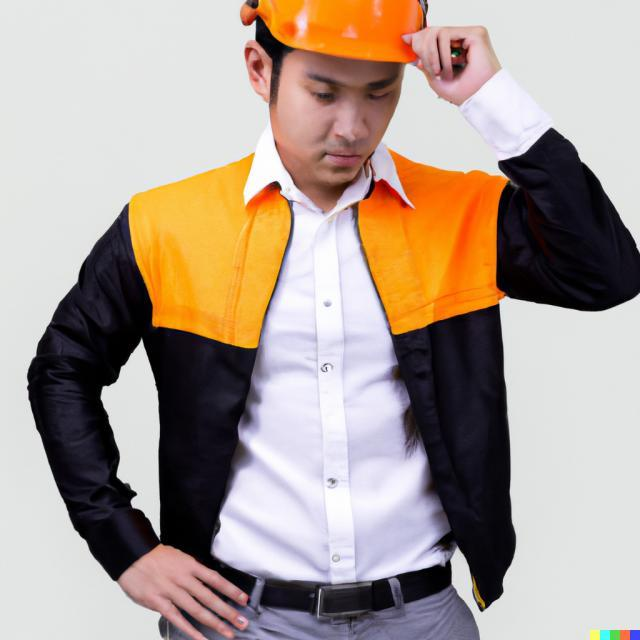safety_helmet: (244, 1, 428, 63)
